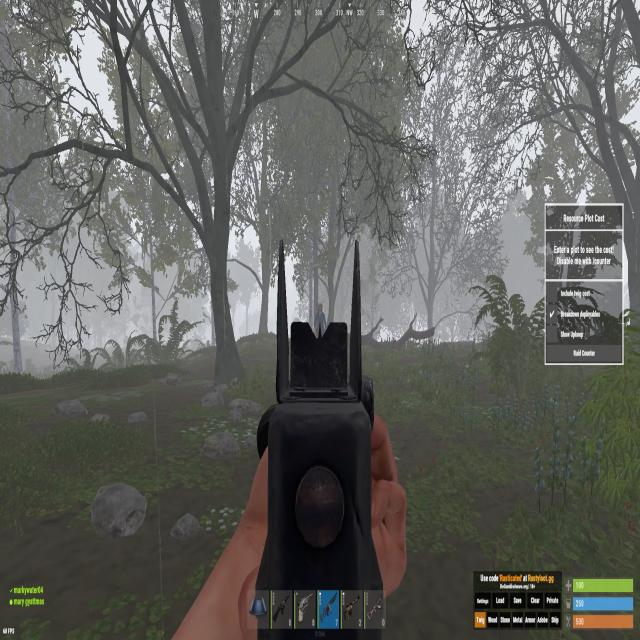Player: (314, 303, 327, 336)
